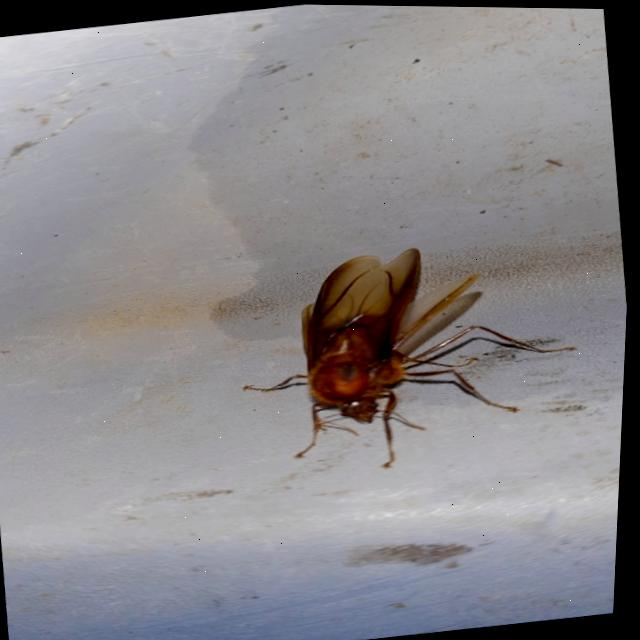Alive-Male-Alate: (226, 224, 598, 488)
